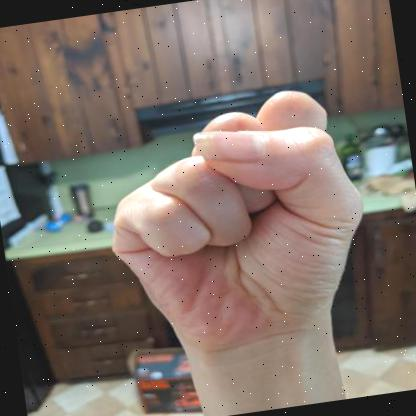S: (112, 90, 363, 365)
